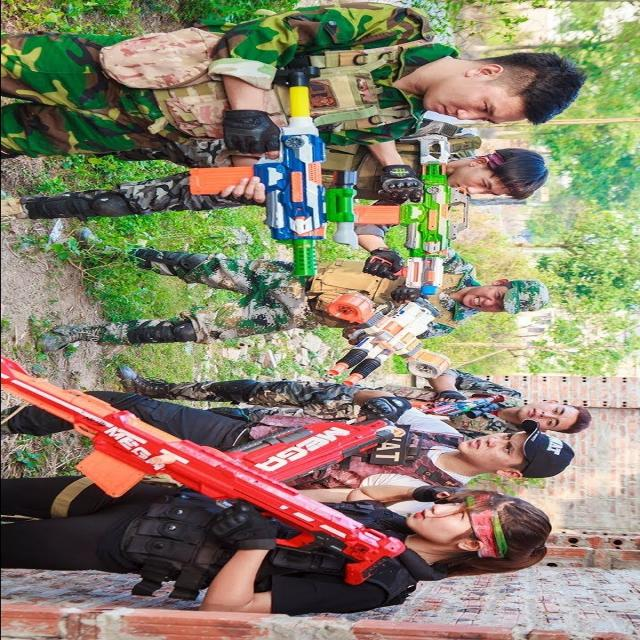Nerf gun: (1, 345, 403, 583), (175, 58, 368, 292), (338, 128, 484, 294), (203, 410, 404, 494), (304, 286, 458, 386), (414, 371, 520, 431)
